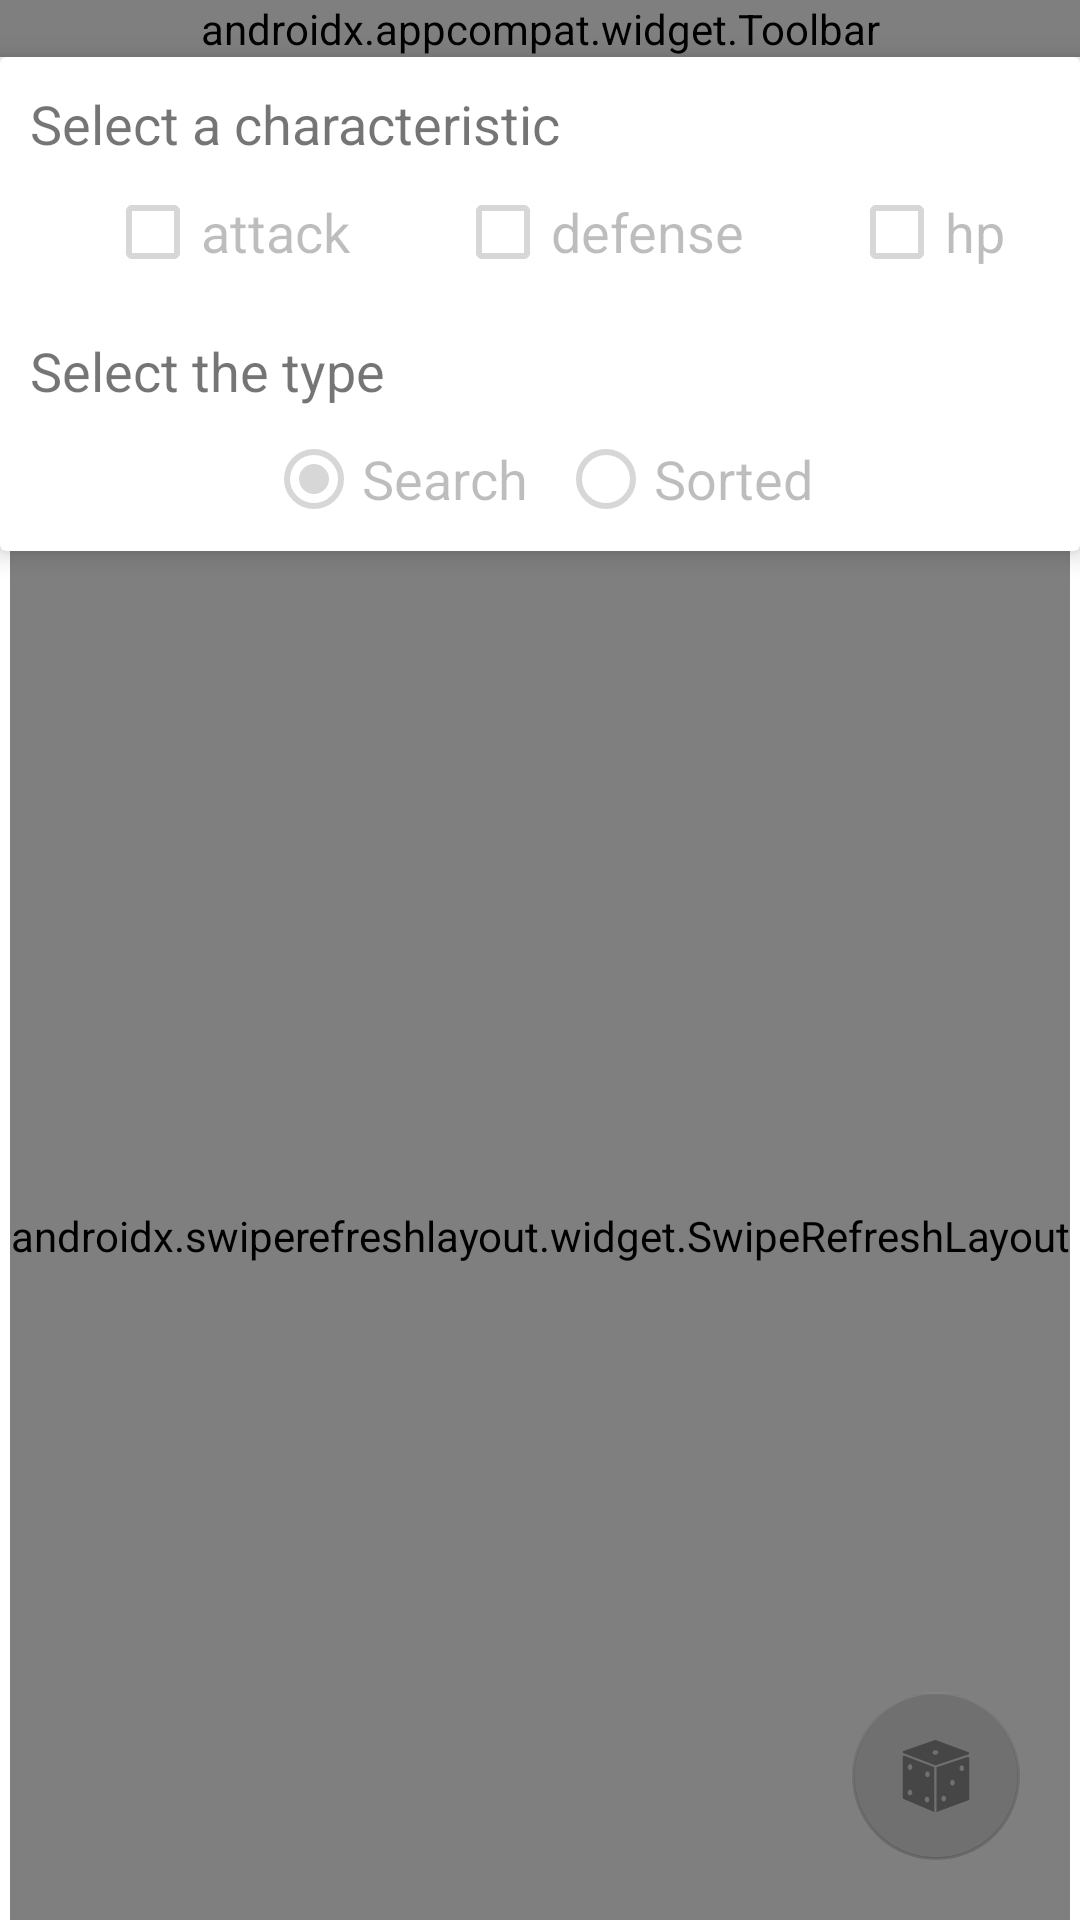

Icon bounding boxes for this 1080 × 1920 phone screenshot, format rect(x1, y1, x2, y2):
Random pokemon list: rect(852, 1692, 1020, 1860)
